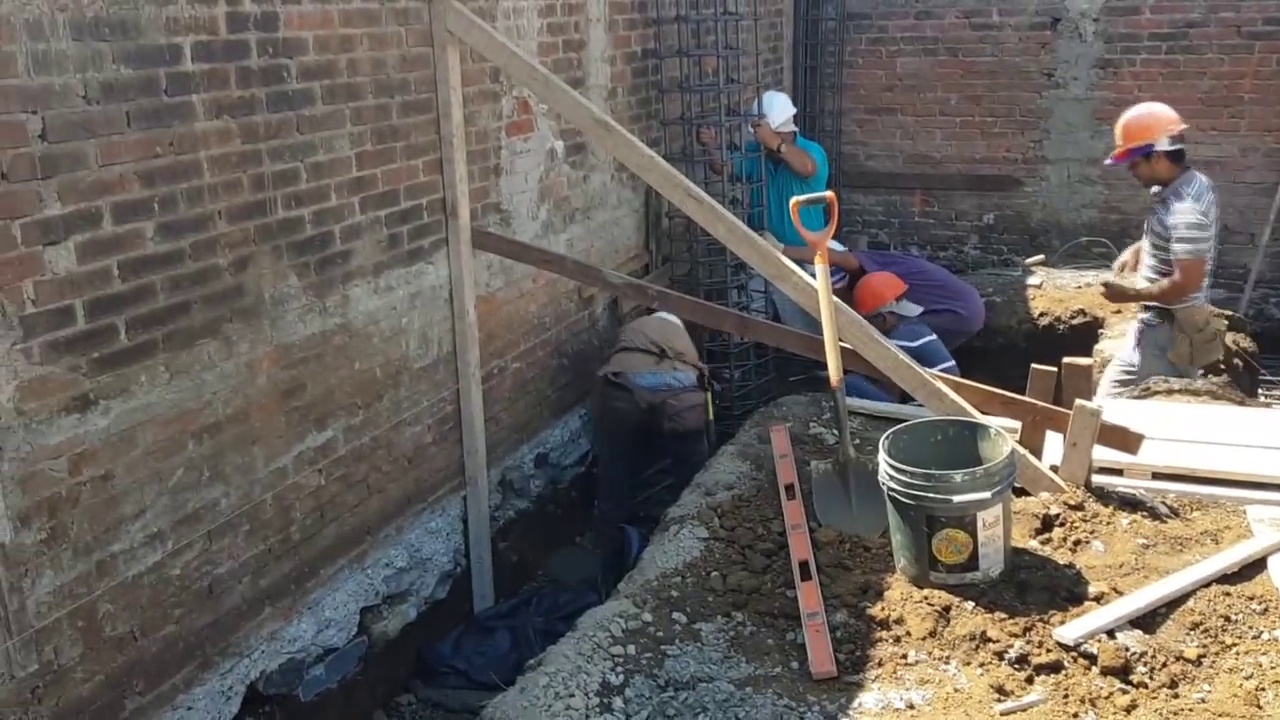helmet: (1106, 98, 1197, 162), (851, 271, 908, 315), (748, 89, 799, 129), (803, 236, 846, 276)
helmet-on: (1105, 100, 1195, 190), (850, 272, 920, 336), (748, 89, 798, 155), (803, 234, 858, 291)
person: (1102, 93, 1218, 402), (699, 89, 830, 339), (803, 232, 986, 350), (600, 304, 712, 480), (849, 272, 965, 377)
